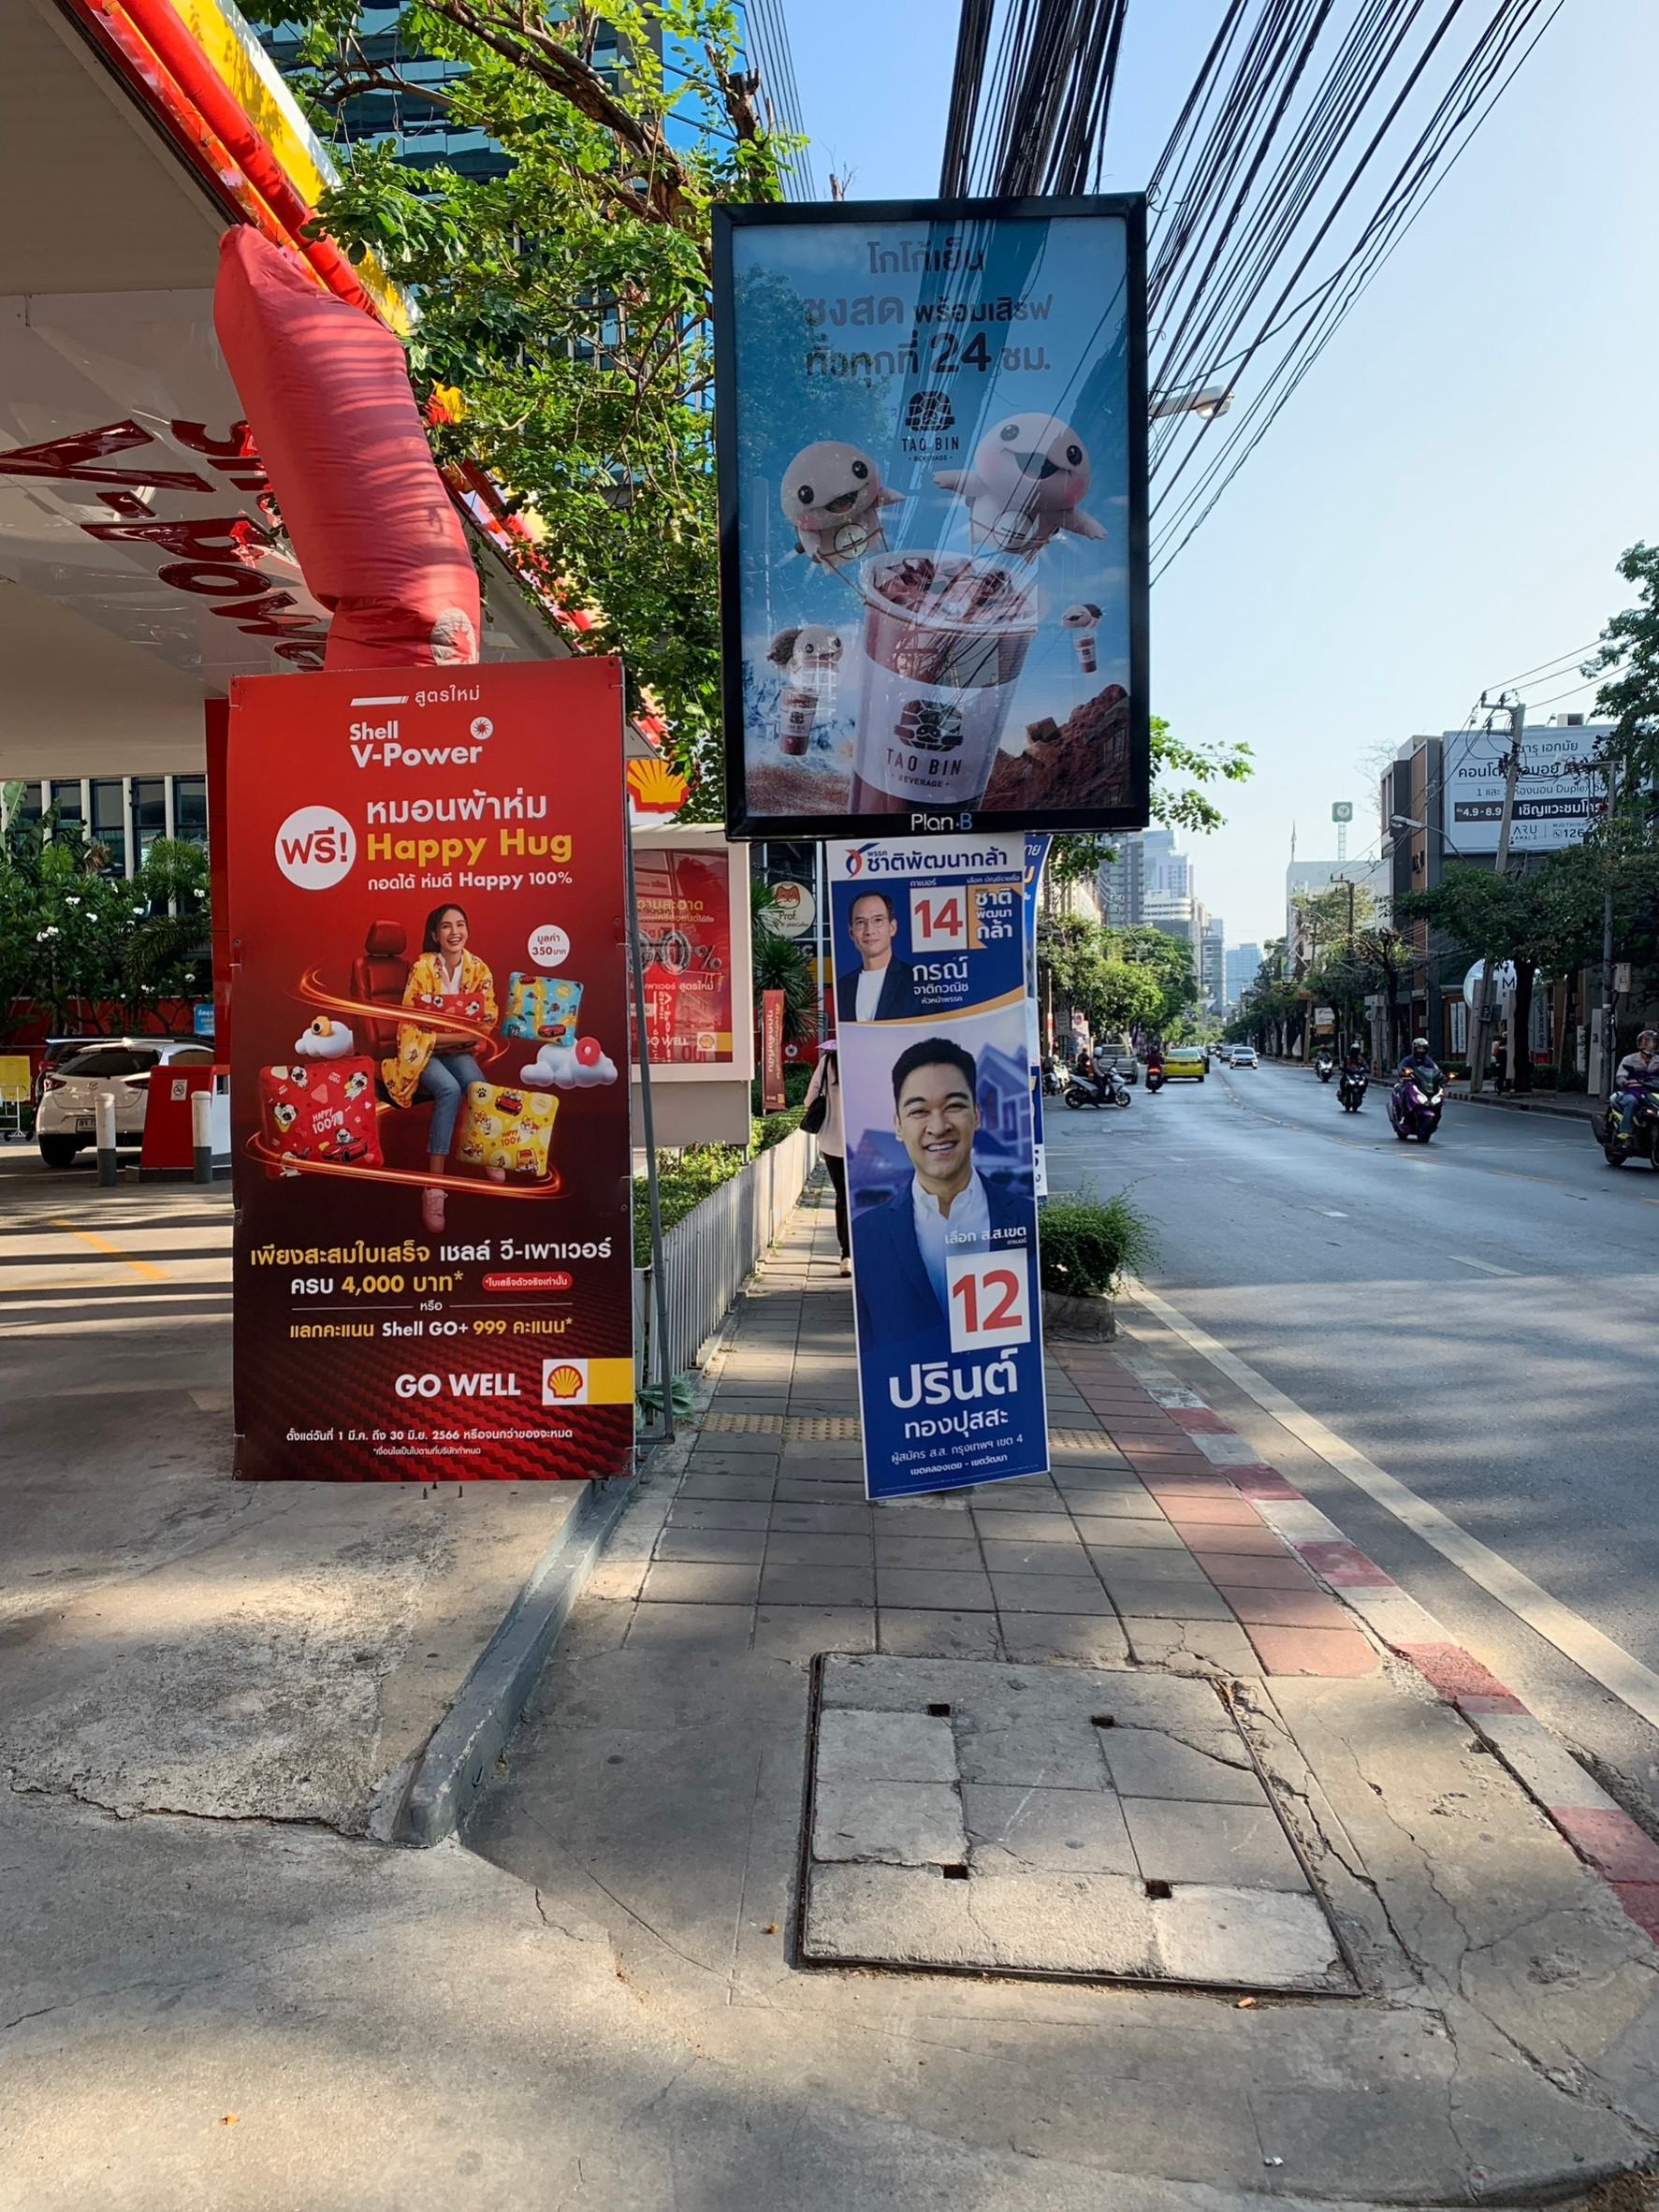Banner: (819, 827, 1073, 1500)
